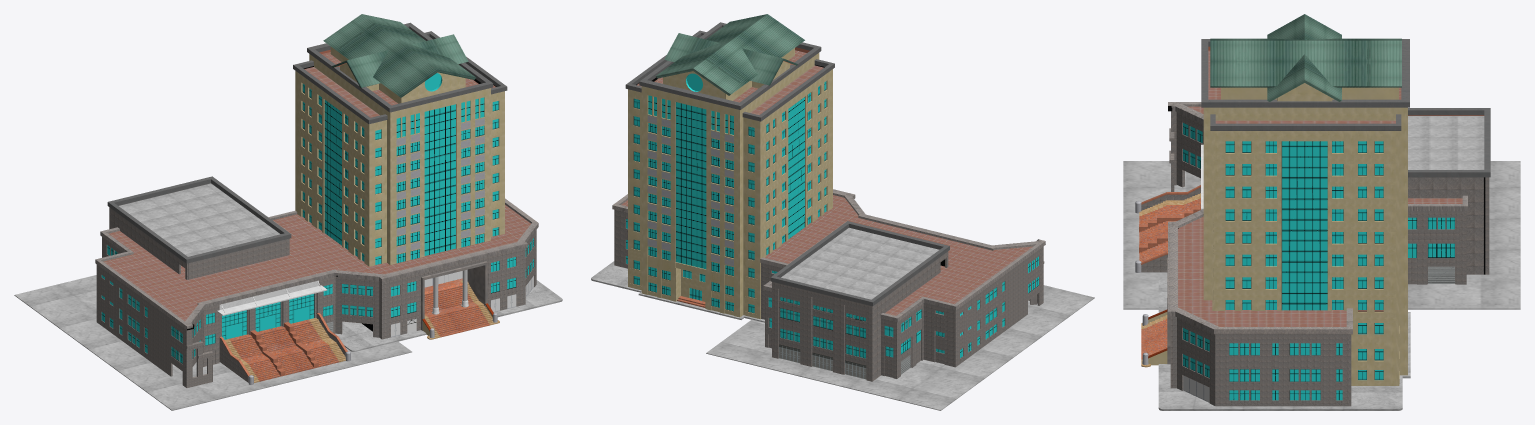
File: toanhaA2.fbx
3 renders of one model, left to right at view 1: azimuth 30°, elevation 25°; view 2: azimuth 150°, elevation 25°; view 3: azimuth 270°, elevation 25°, orthographic. The views are drawn at different scales.
Parts seen in each view (by area): view 1: hoitruong; view 2: hoitruong; view 3: hoitruong.
Part boxes in pixels (<box>): hoitruong: <box>14,14,562,410</box>; hoitruong: <box>591,14,1094,410</box>; hoitruong: <box>1123,14,1520,410</box>.
Bounding box in the file's own units: 92.13 × 53.14 × 61.96.
4 materials, 4 textured.
